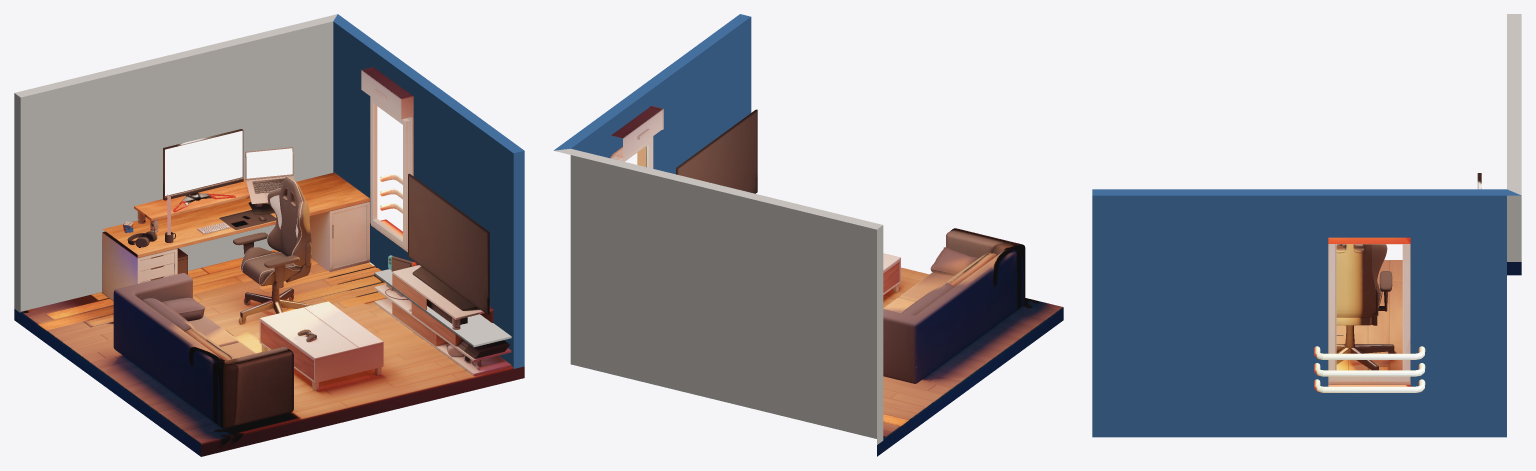
File: room-sofa-shifted.glb
The picture shows the model from 3 angles, left to right: view 1: azimuth 30°, elevation 25°; view 2: azimuth 150°, elevation 25°; view 3: azimuth 270°, elevation 25°; orthographic projection. The views are drawn at different scales.
Visible parts, largest first — view 1: Room_Baked, Office_0043.001, Architecture_0011.001, Monitor_Screen_Dynamic.001, Architecture_0001.001, Laptop_Screen_Dynamic.001; view 2: Office_0043.001, Room_Baked, Architecture_0011.001; view 3: Architecture_0011.001, Room_Baked, Office_0043.001.
Boxes of the visible parts, bbox=[...] form: Room_Baked: bbox=[14, 67, 524, 456]; Office_0043.001: bbox=[14, 14, 337, 312]; Architecture_0011.001: bbox=[333, 14, 524, 368]; Monitor_Screen_Dynamic.001: bbox=[165, 131, 242, 195]; Architecture_0001.001: bbox=[374, 269, 511, 347]; Laptop_Screen_Dynamic.001: bbox=[246, 148, 292, 178]; Office_0043.001: bbox=[554, 148, 883, 444]; Room_Baked: bbox=[610, 106, 1063, 456]; Architecture_0011.001: bbox=[554, 14, 751, 174]; Architecture_0011.001: bbox=[1092, 189, 1521, 437]; Room_Baked: bbox=[1314, 173, 1521, 392]; Office_0043.001: bbox=[1507, 14, 1521, 261].
Bounding box in the file's own units: 10.5 × 6.71 × 10.
Materials: 6 (1 with a texture image).
